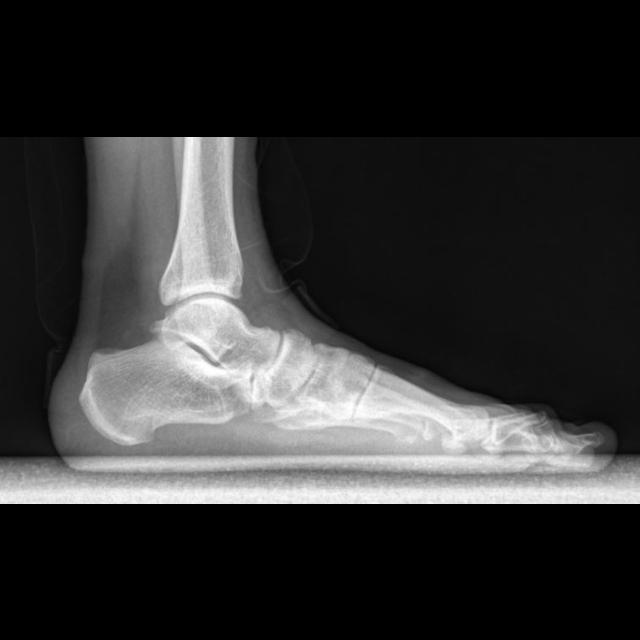a: (78, 337, 251, 445)
b: (264, 326, 317, 405)
c: (352, 362, 490, 443)
